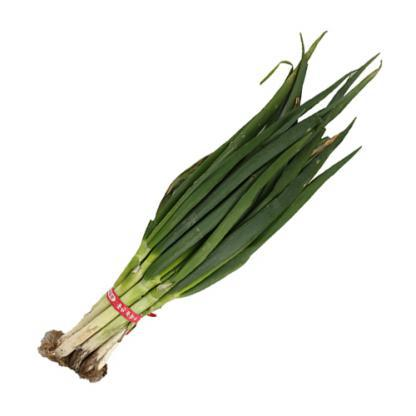green onion: (35, 29, 383, 392)
